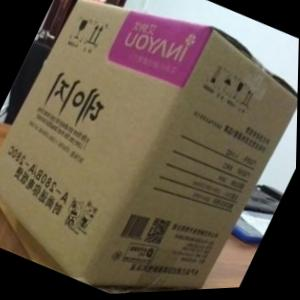cardboard: (1, 0, 299, 299)
